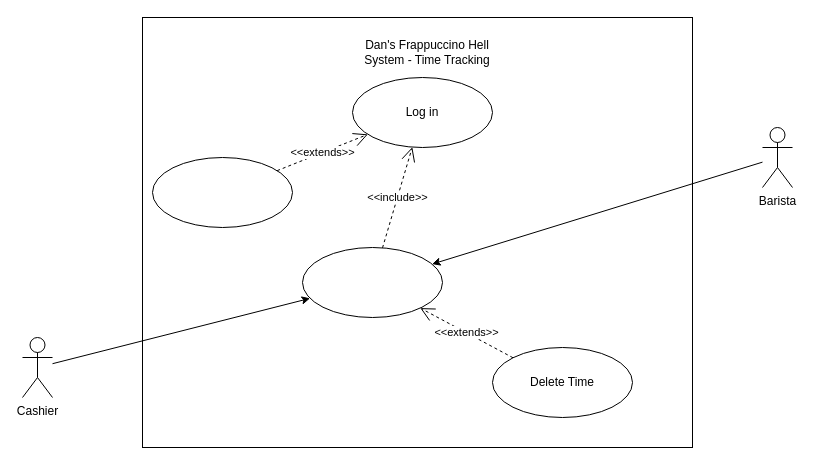
This 813x465 diagram has some shape labels left out. Here are the shapes that lost their labels. From the top down, the box of each, then its label:
(152, 156, 292, 228): Create Account
(302, 246, 442, 318): Enter Time
